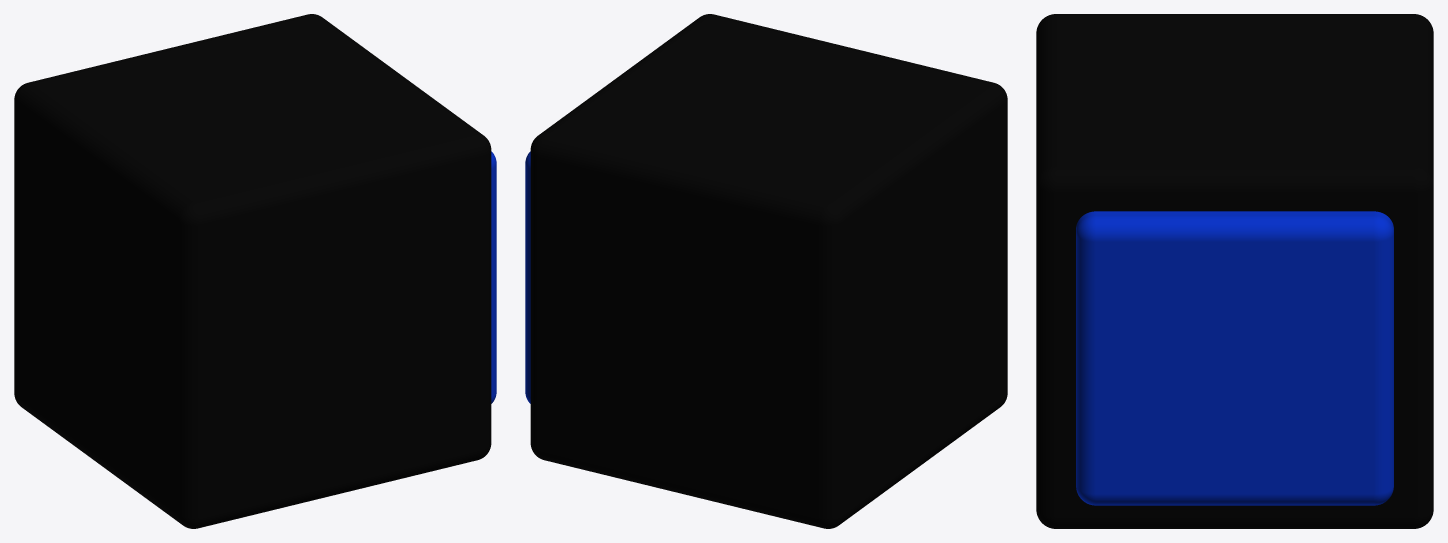
Rendered from cubinho(-1, 0, 0).obj.
3 renders of one model, left to right at view 1: azimuth 30°, elevation 25°; view 2: azimuth 150°, elevation 25°; view 3: azimuth 270°, elevation 25°, orthographic. The views are drawn at different scales.
Parts seen in each view (by area): view 1: (-1,_0,_0); view 2: (-1,_0,_0); view 3: (-1,_0,_0).
Part boxes in pixels (left/top/right/bottom): (-1,_0,_0): left=14, top=14, right=496, bottom=528; (-1,_0,_0): left=525, top=14, right=1007, bottom=528; (-1,_0,_0): left=1036, top=14, right=1433, bottom=528.
Size of the model in its own units: 2.15 by 2 by 2.
